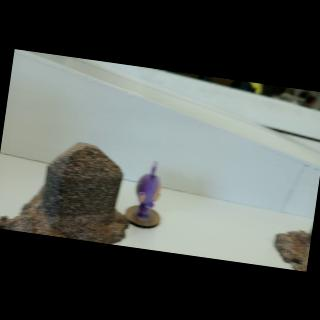teletubby: (136, 165, 160, 218)
